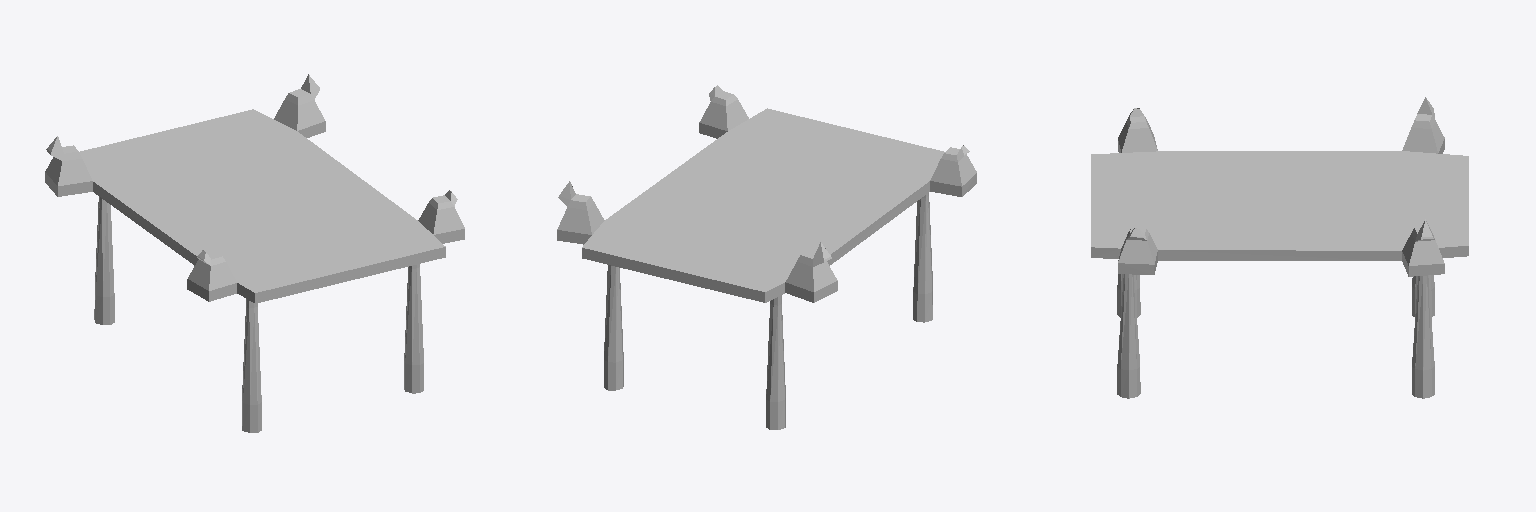
Rendered from TableOBJ.obj.
3 views of the same model, side by side, from view 1: azimuth 30°, elevation 25°; view 2: azimuth 150°, elevation 25°; view 3: azimuth 270°, elevation 25° (orthographic).
Parts seen in each view (by area): view 1: pCylinder5; view 2: pCylinder5; view 3: pCylinder5.
Boxes of the visible parts, x1=… form: pCylinder5: x1=45, y1=74, x2=464, y2=432; pCylinder5: x1=557, y1=85, x2=976, y2=429; pCylinder5: x1=1091, y1=97, x2=1468, y2=398.
Size of the model in its own units: 11.64 by 8.07 by 14.12.